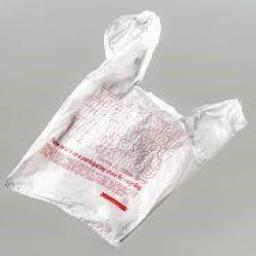Plastic: (5, 12, 250, 250)
